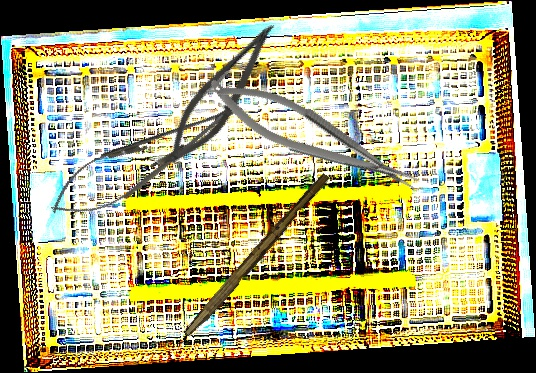Micro Scissor: (155, 9, 286, 177)
Needle Holder: (198, 61, 425, 212), (40, 84, 253, 233)
Scalpel Handle: (183, 169, 331, 342)
